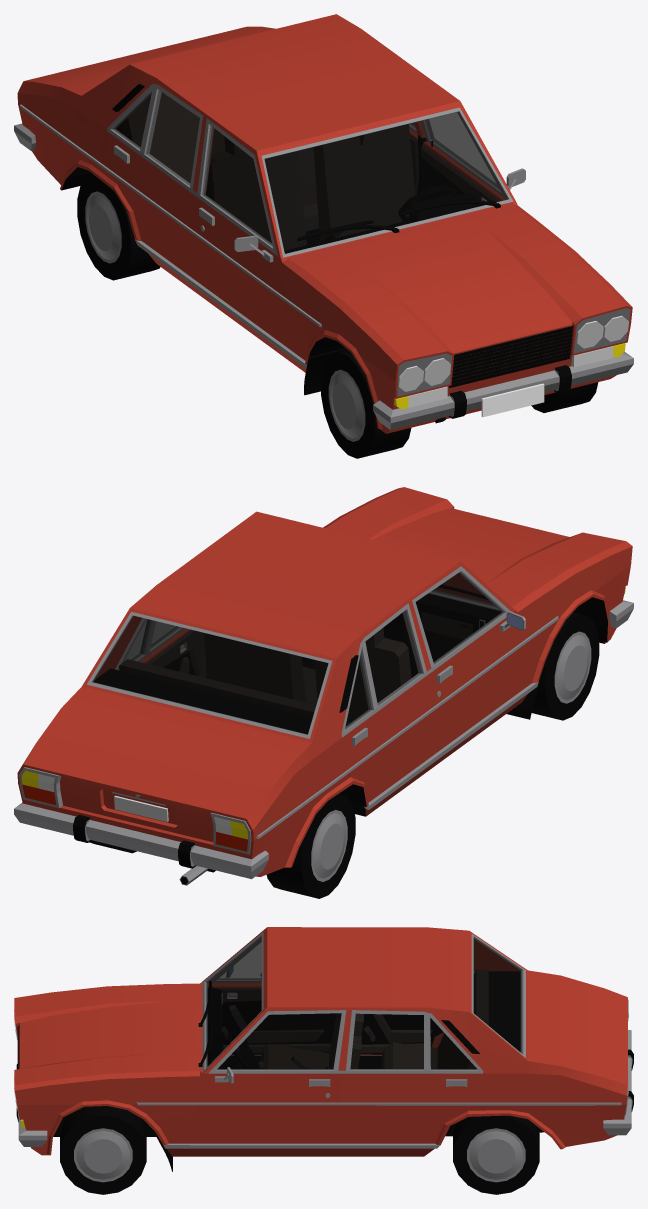
Rendered from Car09.fbx.
3 views of the same model, one above another, from view 1: azimuth 30°, elevation 25°; view 2: azimuth 150°, elevation 25°; view 3: azimuth 270°, elevation 25° (orthographic). The views are drawn at different scales.
Parts seen in each view (by area): view 1: mdl_car02_body, mdl_car02_door_FR, mdl_car02_door_BR, mdl_car02_wheel_FR, mdl_car02_wheel_BR, mdl_car02_door_FL, mdl_car02_wheel_FL; view 2: mdl_car02_body, mdl_car02_door_FR, mdl_car02_door_BR, mdl_car02_wheel_BR, mdl_car02_wheel_FR, mdl_car02_door_BL; view 3: mdl_car02_body, mdl_car02_door_FL, mdl_car02_door_BL, mdl_car02_wheel_FL, mdl_car02_wheel_BL, mdl_car02_door_FR, mdl_car02_door_BR, mdl_car02_steering_wheel.
Boxes of the visible parts, x1=… form: mdl_car02_body: x1=14, y1=14, x2=633, y2=433; mdl_car02_door_FR: x1=194, y1=118, x2=286, y2=346; mdl_car02_door_BR: x1=107, y1=83, x2=203, y2=282; mdl_car02_wheel_FR: x1=321, y1=350, x2=411, y2=458; mdl_car02_wheel_BR: x1=77, y1=174, x2=160, y2=280; mdl_car02_door_FL: x1=421, y1=112, x2=506, y2=201; mdl_car02_wheel_FL: x1=531, y1=382, x2=598, y2=412; mdl_car02_body: x1=14, y1=487, x2=633, y2=885; mdl_car02_door_FR: x1=412, y1=566, x2=525, y2=760; mdl_car02_door_BR: x1=341, y1=603, x2=433, y2=802; mdl_car02_wheel_BR: x1=266, y1=793, x2=355, y2=898; mdl_car02_wheel_FR: x1=531, y1=612, x2=599, y2=720; mdl_car02_door_BL: x1=115, y1=618, x2=206, y2=677; mdl_car02_body: x1=14, y1=927, x2=633, y2=1171; mdl_car02_door_FL: x1=195, y1=1010, x2=346, y2=1143; mdl_car02_door_BL: x1=338, y1=1010, x2=483, y2=1143; mdl_car02_wheel_FL: x1=60, y1=1106, x2=146, y2=1194; mdl_car02_wheel_BL: x1=453, y1=1115, x2=539, y2=1194; mdl_car02_door_FR: x1=208, y1=938, x2=334, y2=1054; mdl_car02_door_BR: x1=360, y1=972, x2=474, y2=1055; mdl_car02_steering_wheel: x1=228, y1=1032, x2=260, y2=1068.
Size of the model in its own units: 197 by 147 by 451.
